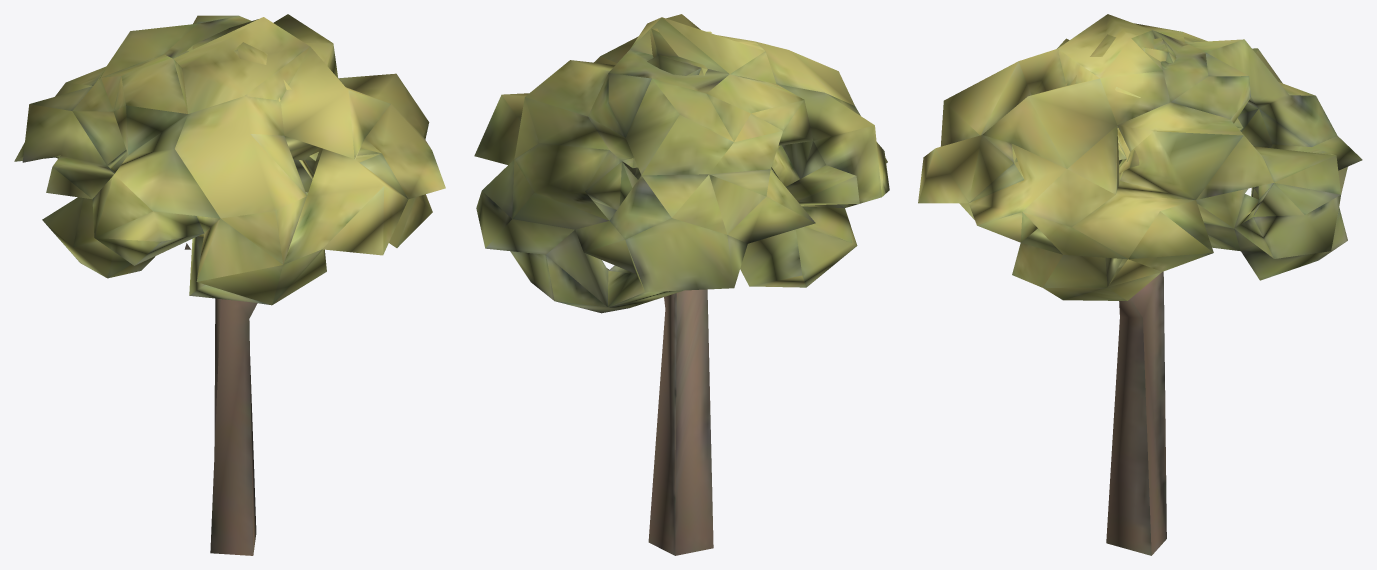
The model's file is tree_round_b_far.glb.
3 views of the same model, side by side, from view 1: azimuth 30°, elevation 25°; view 2: azimuth 150°, elevation 25°; view 3: azimuth 270°, elevation 25° (orthographic).
Parts seen in each view (by area): view 1: body; view 2: body; view 3: body.
Boxes of the visible parts, <box> form: body: <box>14,14,445,555</box>; body: <box>474,14,889,555</box>; body: <box>918,14,1362,555</box>.
Bounding box in the file's own units: 3.3 × 4.43 × 3.46.
Materials: 2 (2 with a texture image).
